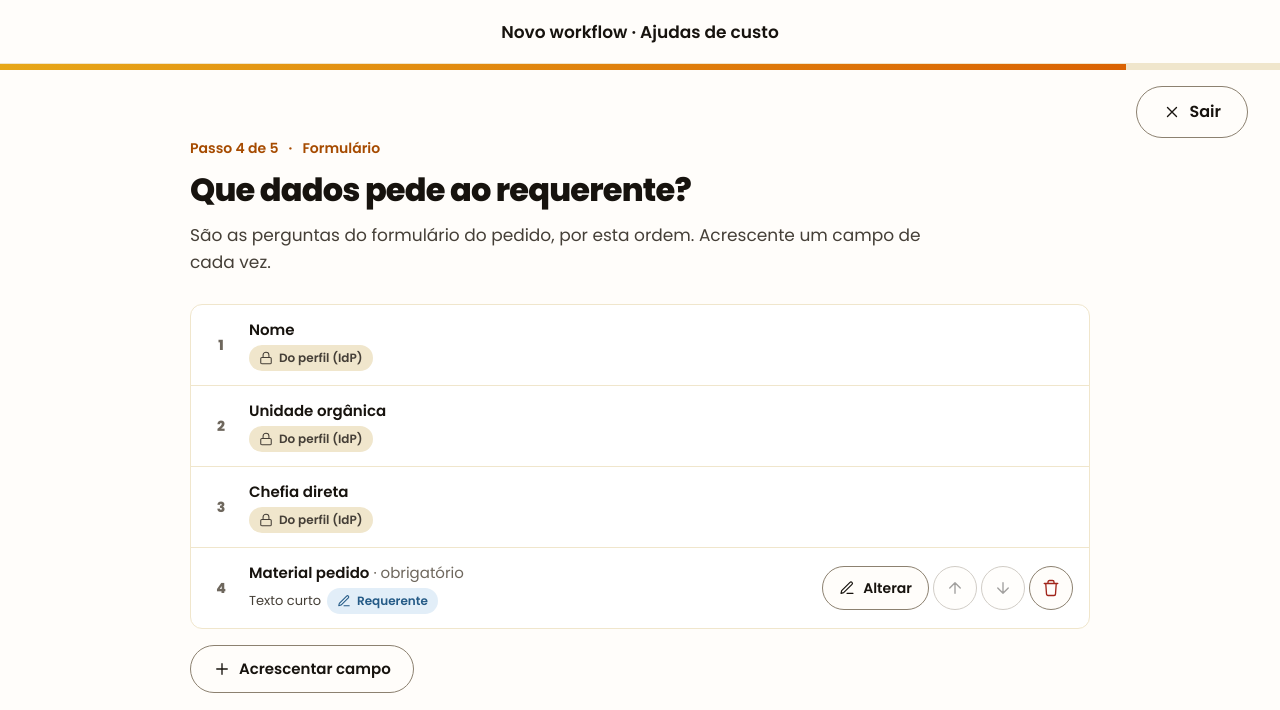
Test: the request form › opens a question to change it, and «Anterior» goes back to the list
Click the button named "Alterar Material pedido" at (876, 588), box x1=822 y1=566 x2=929 y2=610
(page scrolled)
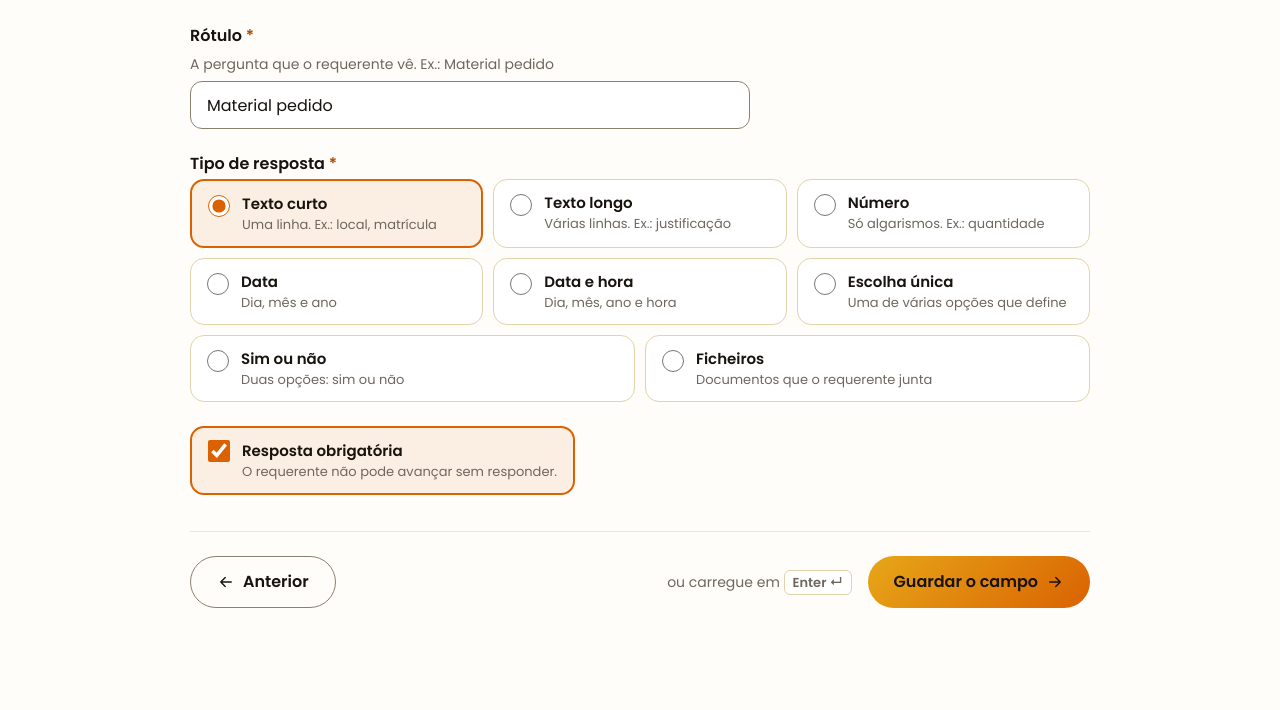
Click the button "Anterior" at (263, 582), box x1=190 y1=556 x2=336 y2=608
(page scrolled)
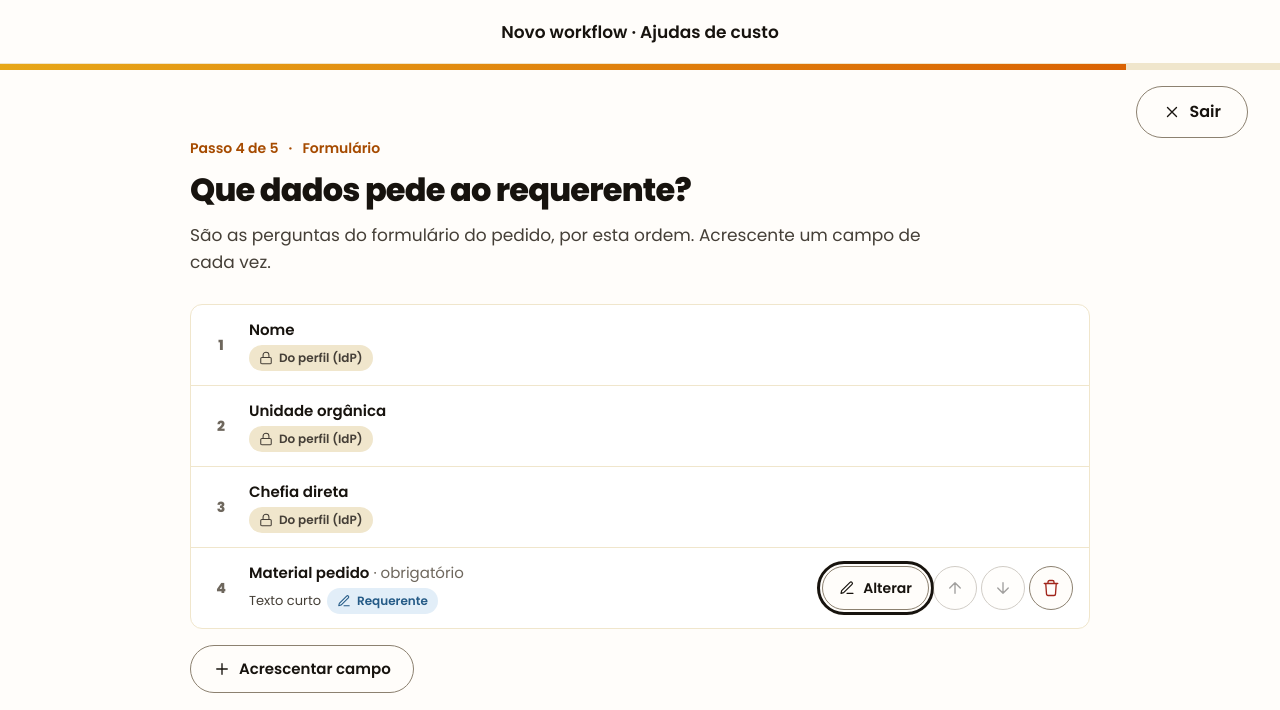
Expected: the heading "Que dados pede ao requerente?" is shown, x1=189 y1=166 x2=691 y2=212
